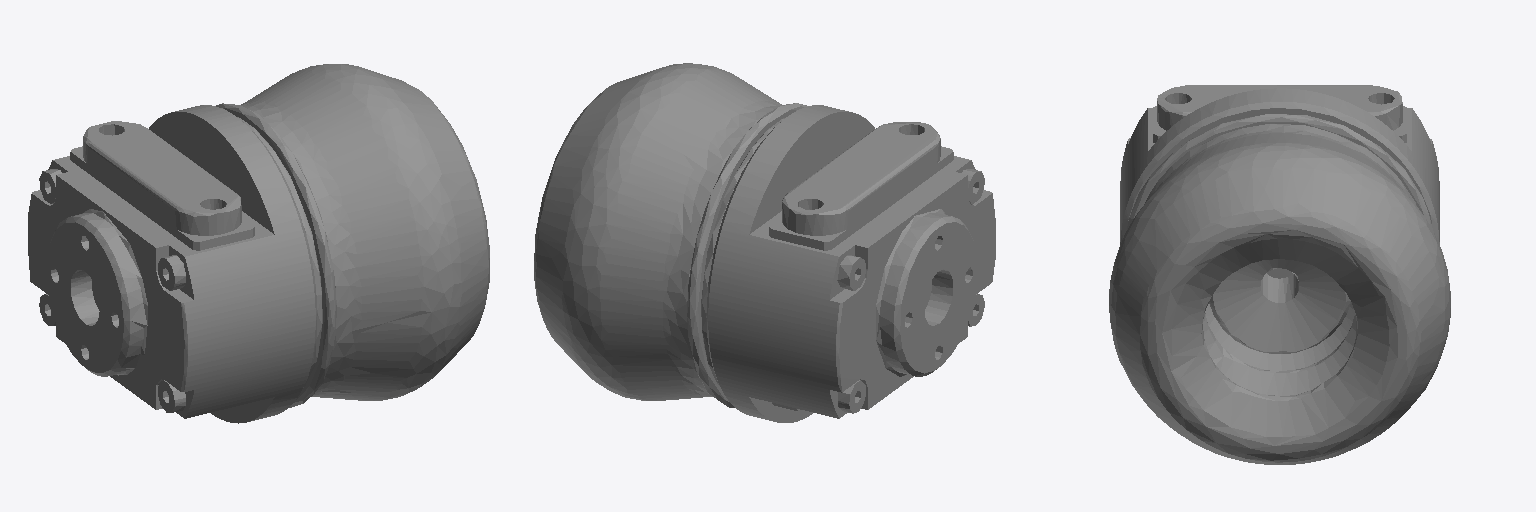
The model's file is sgb30.obj.
The picture shows the model from 3 angles: view 1: azimuth 30°, elevation 25°; view 2: azimuth 150°, elevation 25°; view 3: azimuth 270°, elevation 25°; orthographic projection.
Bounding box in the file's own units: 81.57 × 70.75 × 70.85.